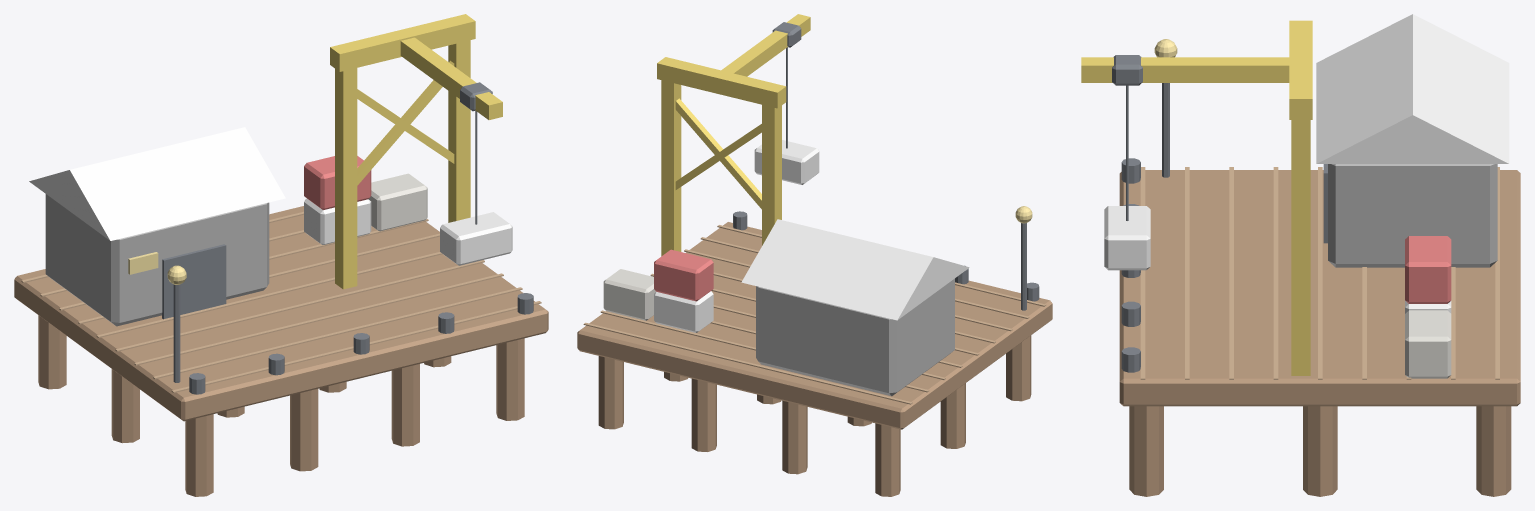
Rendered from harbor.glb.
The picture shows the model from 3 angles, left to right: view 1: azimuth 30°, elevation 25°; view 2: azimuth 150°, elevation 25°; view 3: azimuth 270°, elevation 25°; orthographic projection. The views are drawn at different scales.
Visible parts, largest first — view 1: main; view 2: main; view 3: main.
Boxes of the visible parts, left/top/right/bottom form: main: left=14, top=14, right=548, bottom=496; main: left=577, top=14, right=1052, bottom=496; main: left=1081, top=14, right=1520, bottom=496.
Bounding box in the file's own units: 1.3 × 1.16 × 1.14.
